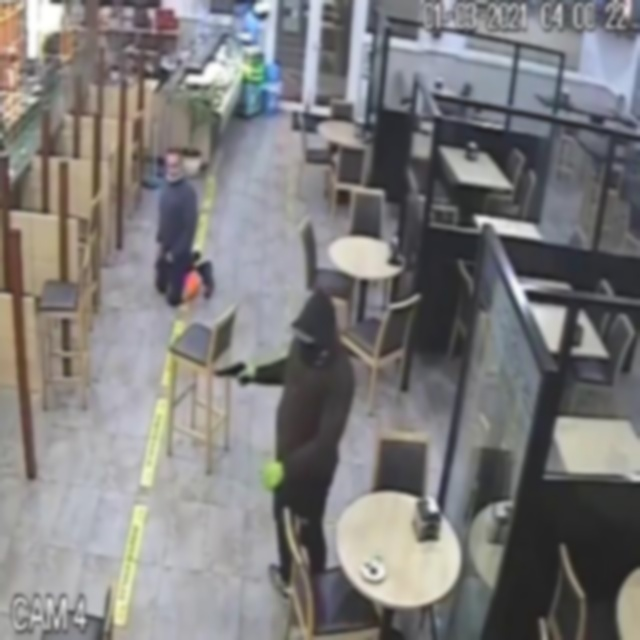gun: (205, 351, 260, 406)
